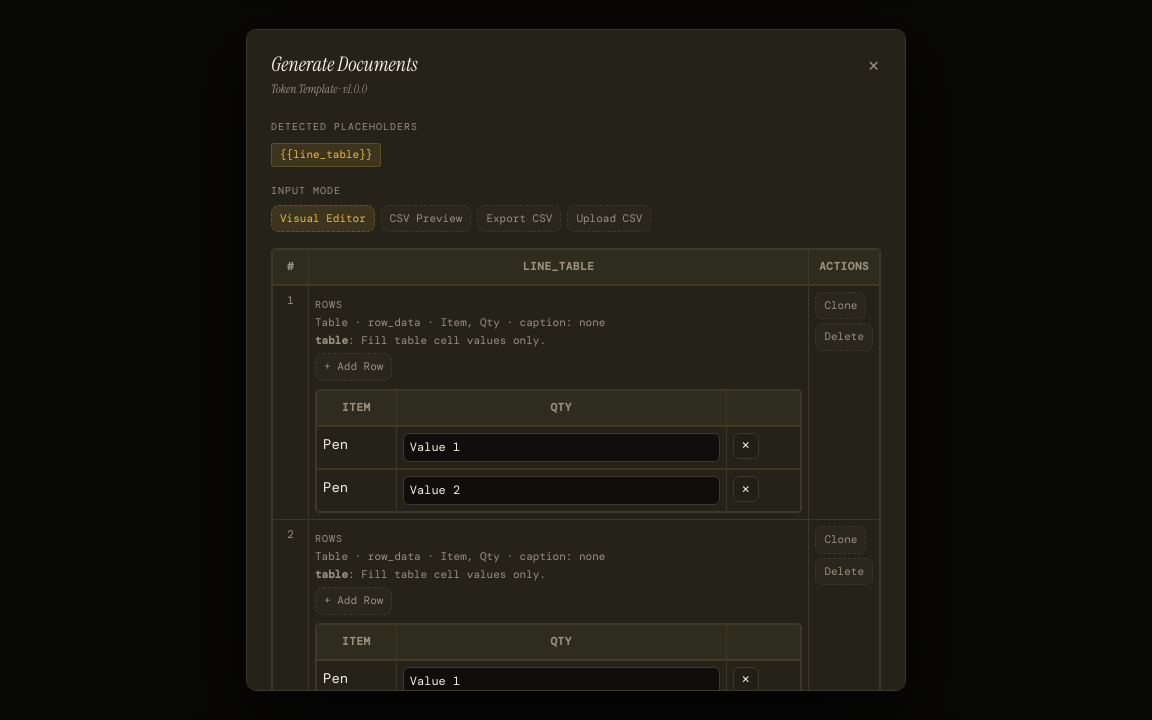
Scenario: GenerateModal premium visual/json workflow › respects dynamic/static table token columns in custom placeholders
Replace the text in the 1st field with "5" at (561, 447), box [403,432,720,462]
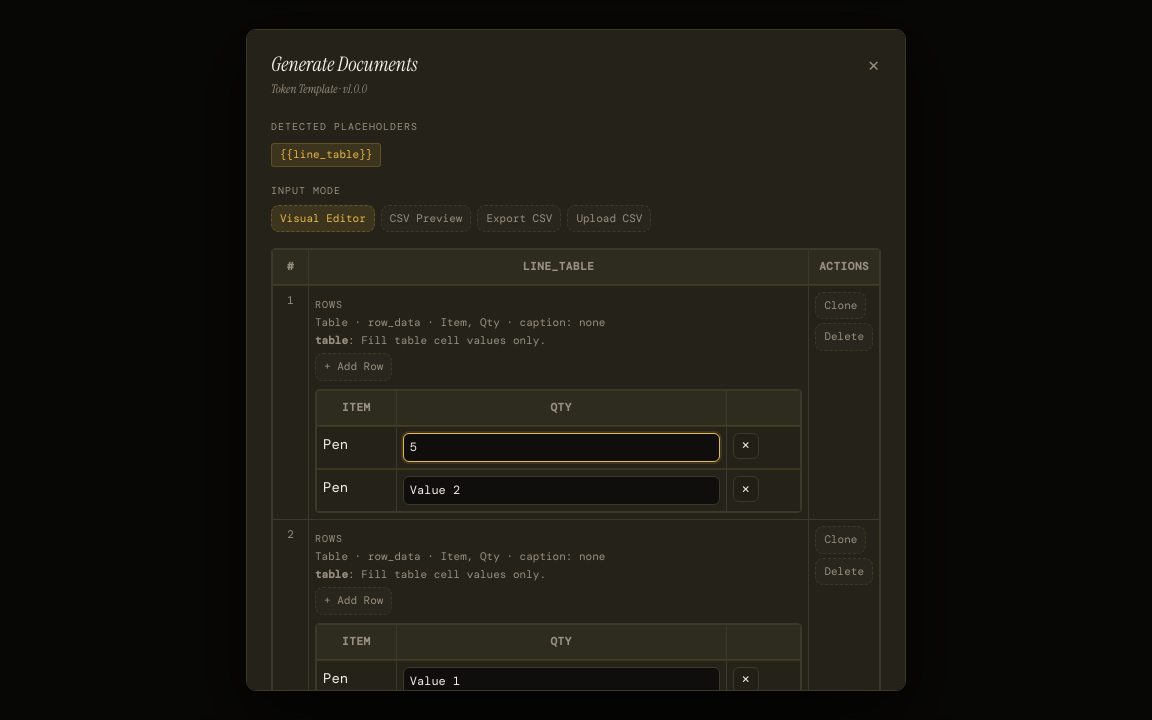
Click the button "CSV Preview".
click(426, 218)  # box [381,205,471,232]
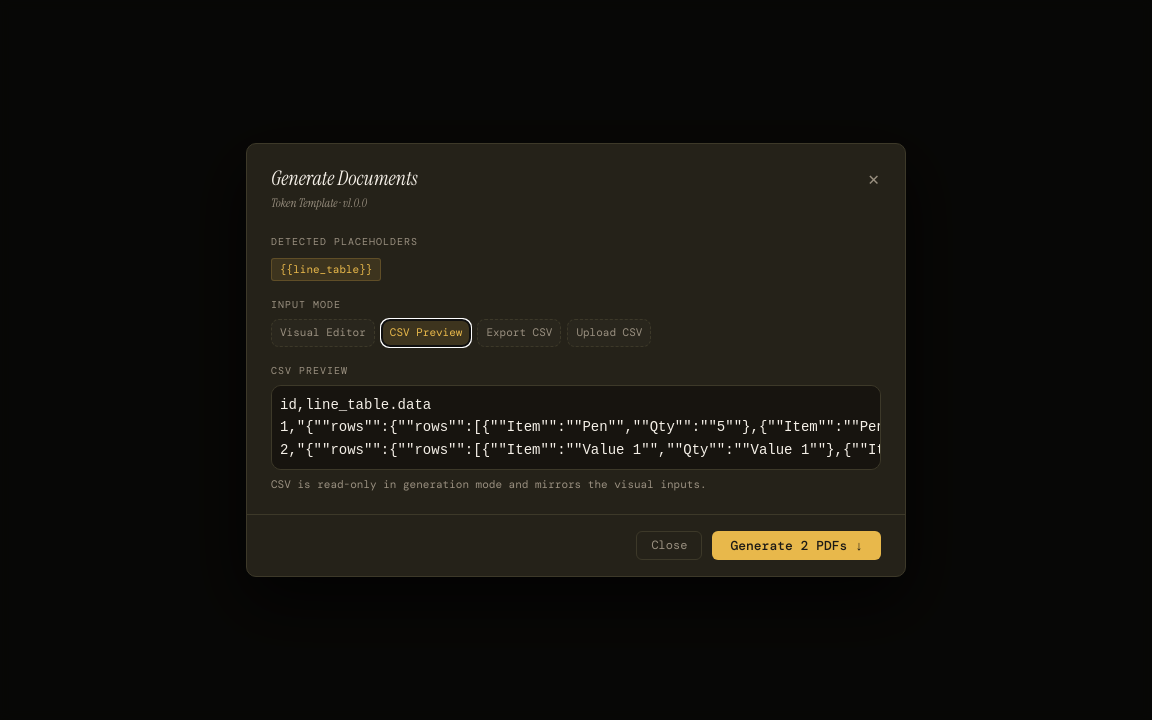
Now the text named "CSV Preview" shows "Pen", box [280,397,906,458]
Now the text named "CSV Preview" shows "5", box [280,397,906,458]
